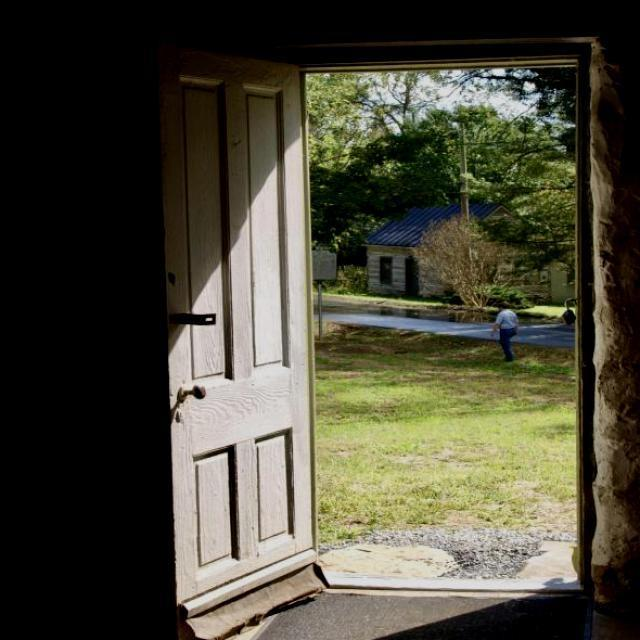door: (159, 50, 319, 632)
